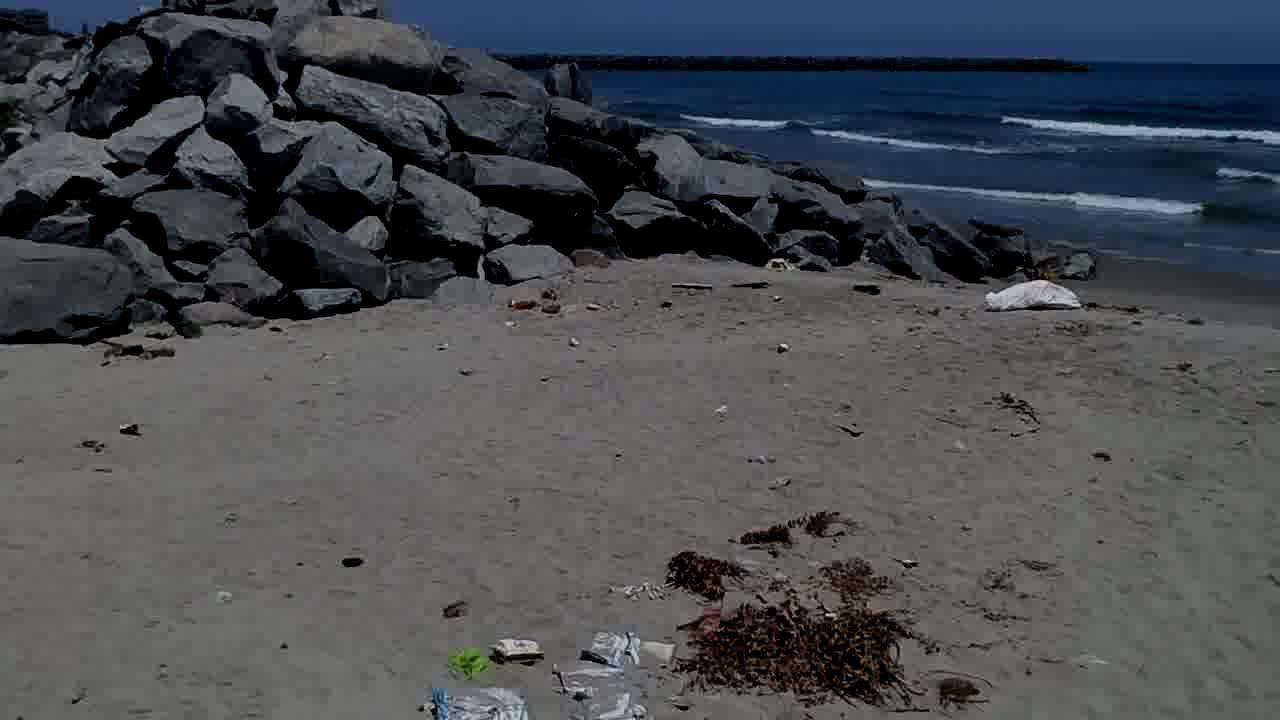obj: (680, 556, 930, 708), (555, 631, 678, 719), (444, 636, 546, 678), (665, 546, 738, 604), (417, 685, 530, 719), (735, 508, 843, 542), (984, 274, 1083, 308), (102, 344, 178, 362), (612, 582, 662, 597), (340, 553, 366, 566)
sand/background: (0, 0, 1279, 350)
